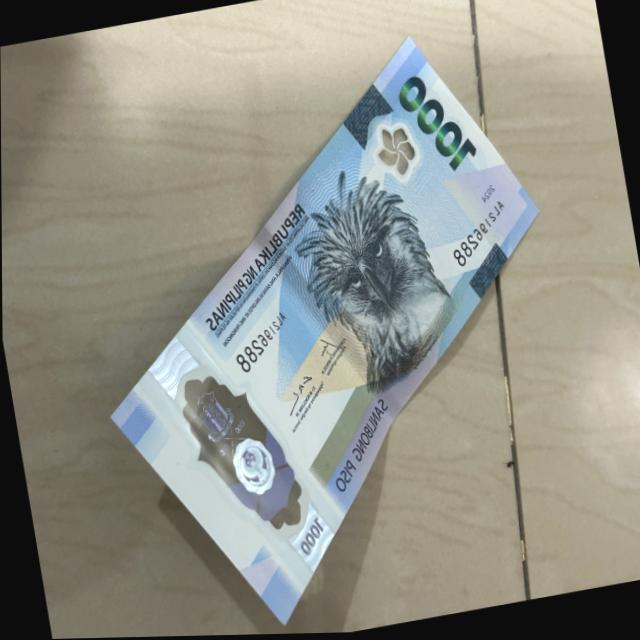clear_window: (160, 349, 313, 554)
eagle: (296, 168, 469, 390)
sampaguita: (370, 109, 416, 183)
serial_number: (230, 309, 296, 380)
